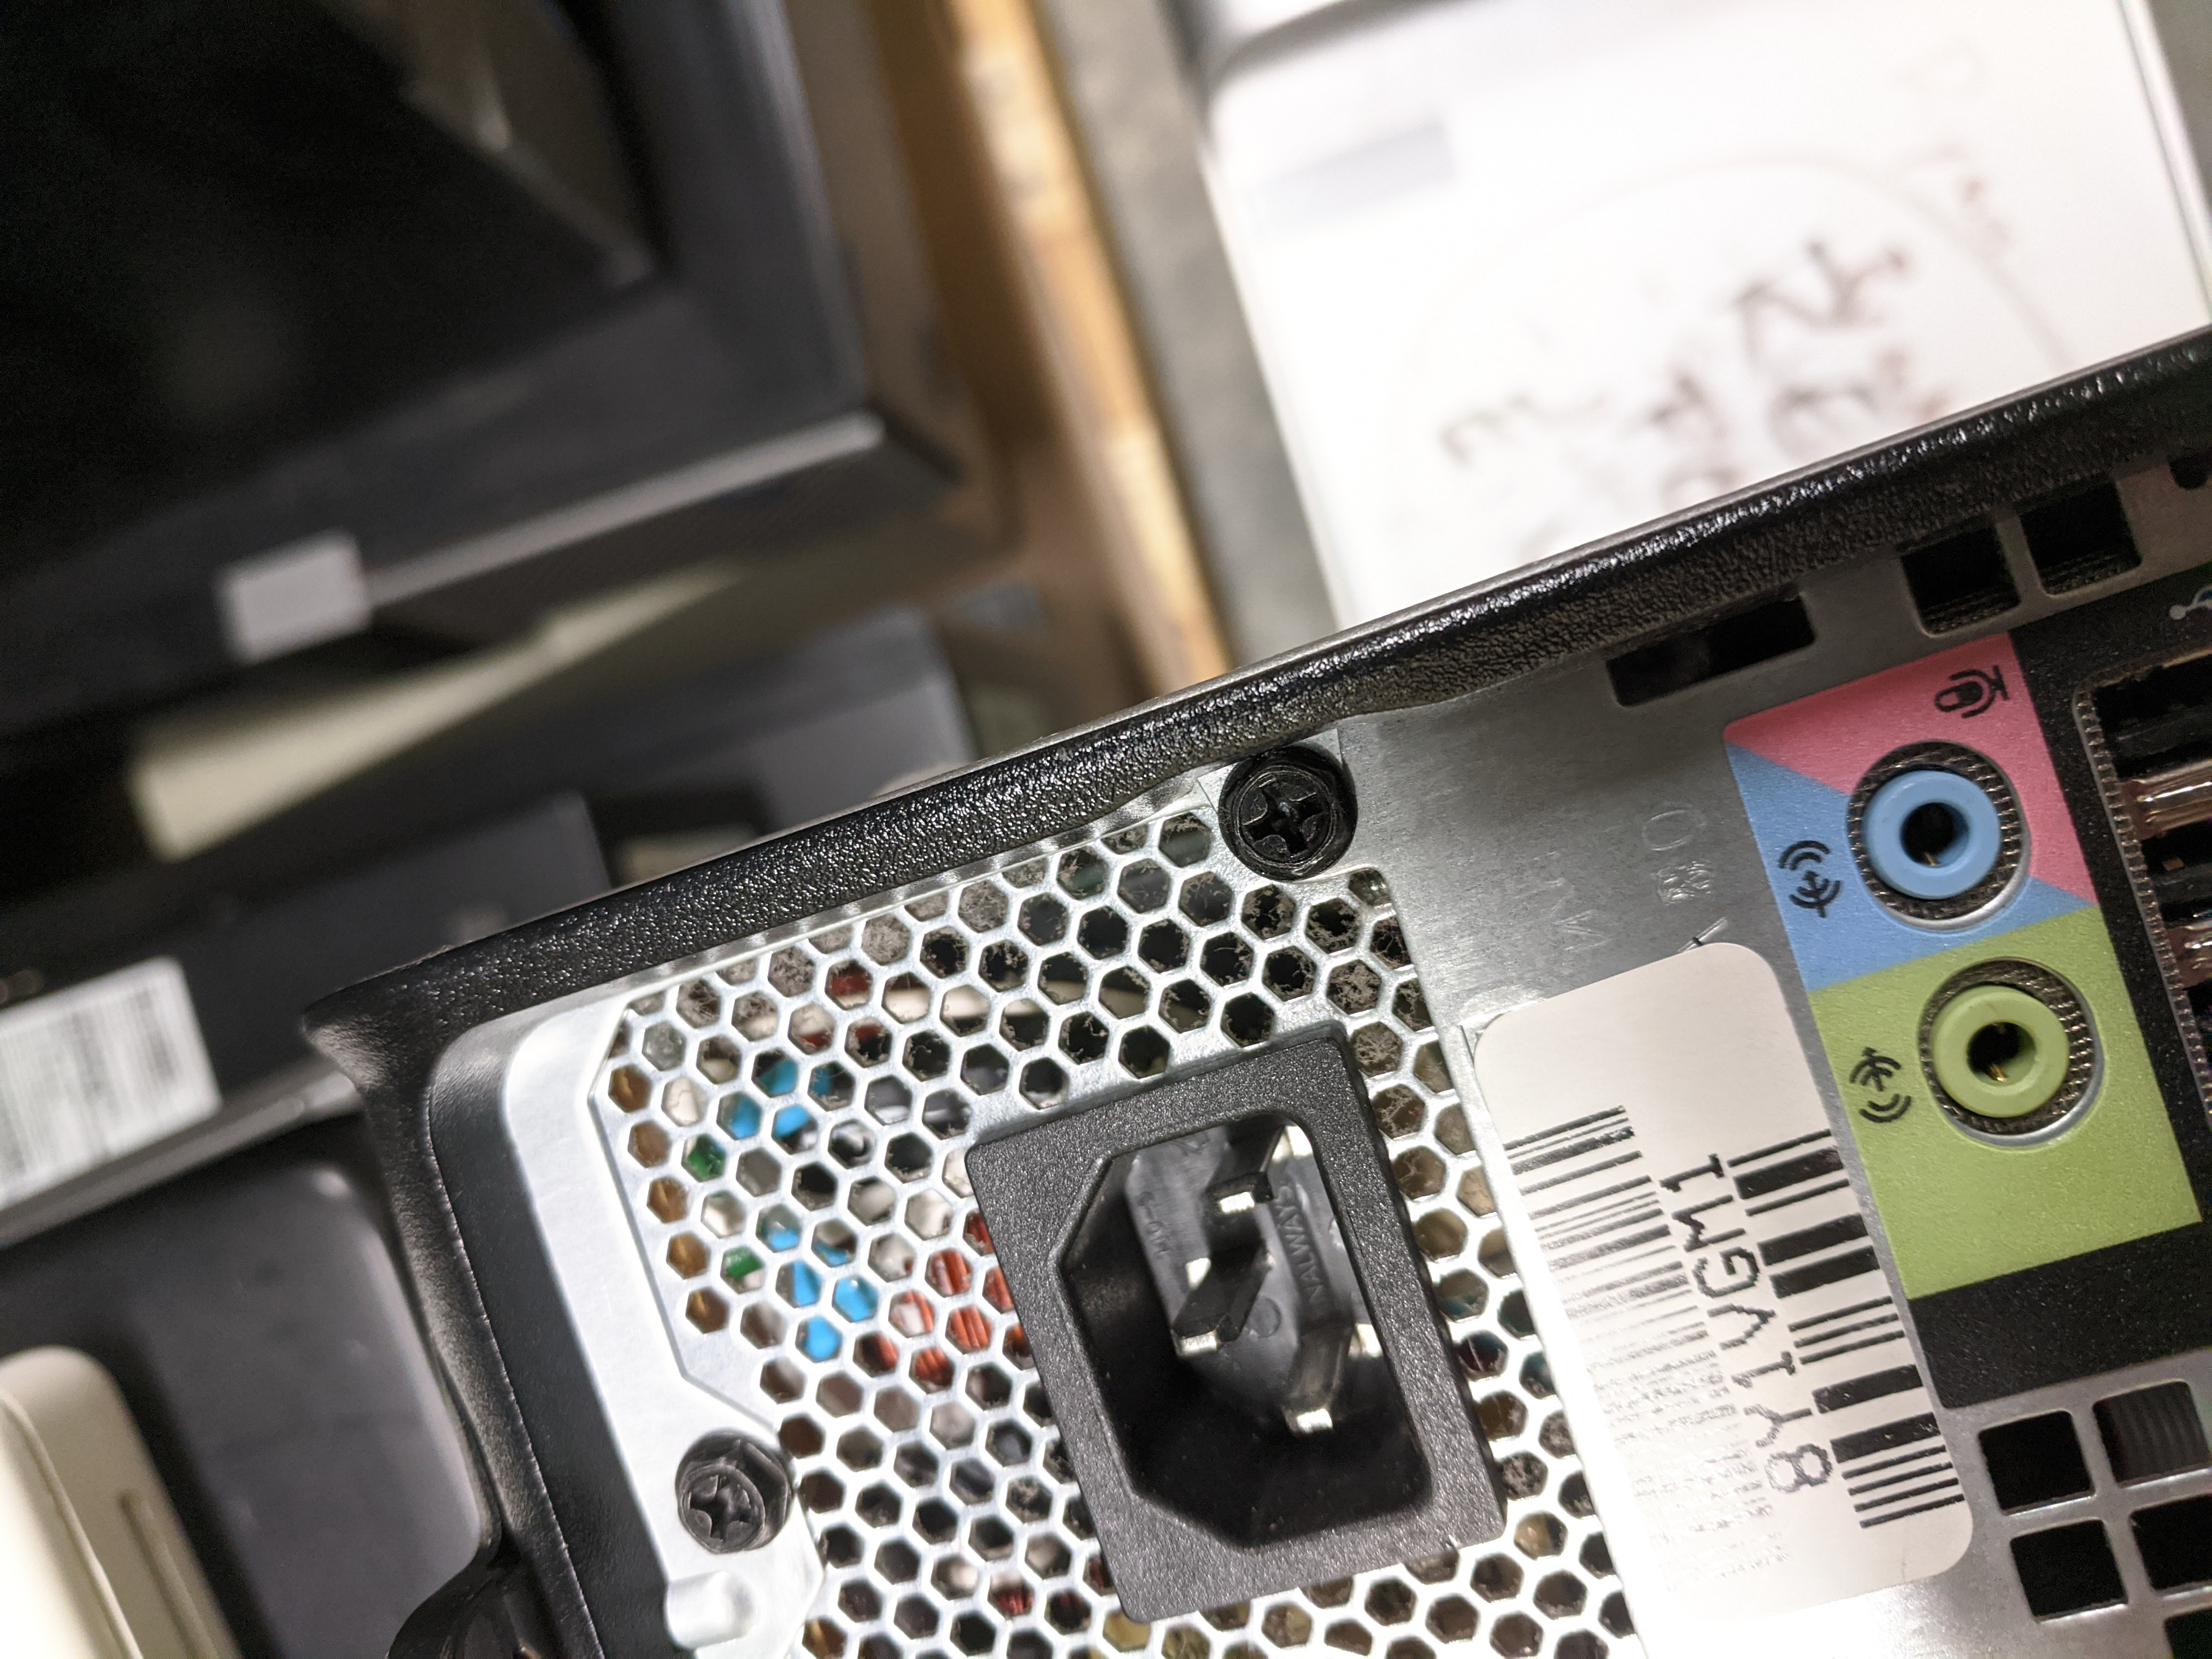cross_recessed_screw: (1230, 763, 1334, 854), (674, 1459, 758, 1544)
